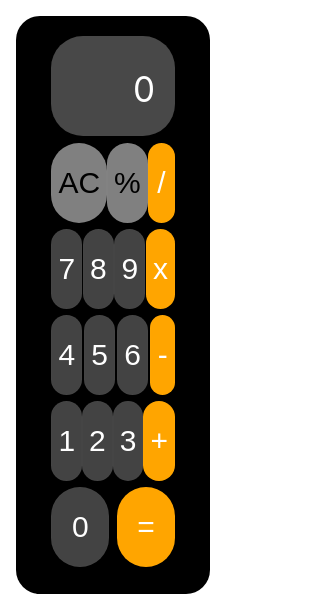
Test: Calculator › Adds numbers correctly together
The width and height of the screenshot is (320, 611).
Click the button with id "one" at [67, 441], box x1=51 y1=401 x2=82 y2=481
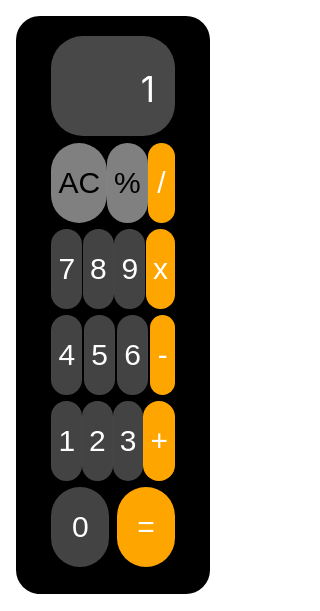
Click the button "+" at [159, 441], box x1=144 y1=401 x2=175 y2=481
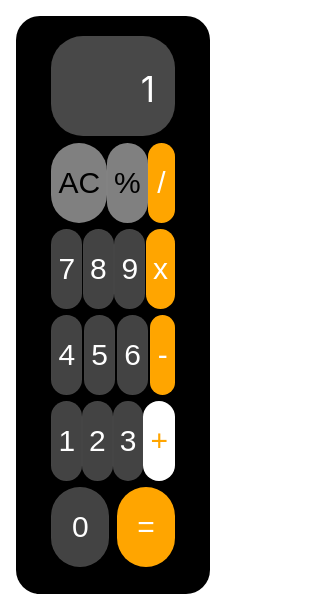
Click the button with id "three" at [128, 441], box x1=113 y1=401 x2=144 y2=481
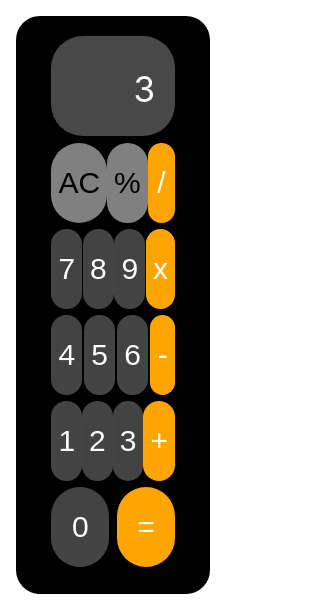
Click the button with id "equals" at [146, 527], box x1=117 y1=487 x2=175 y2=567
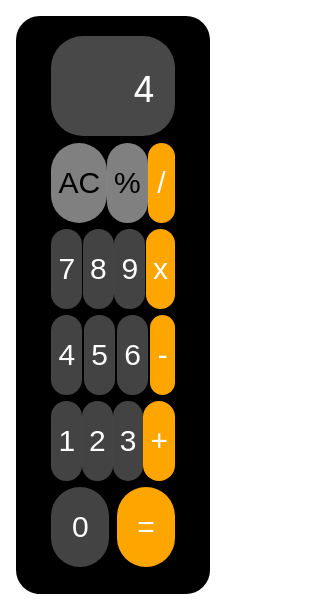
expect the element with class "display" reads "4": met, box x1=132 y1=68 x2=155 y2=110
